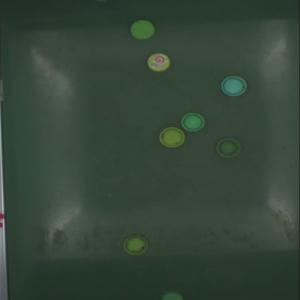others: (215, 138, 241, 158), (159, 128, 185, 148), (221, 76, 247, 96), (130, 20, 155, 40), (180, 112, 205, 132), (123, 236, 148, 255), (147, 54, 171, 72)
